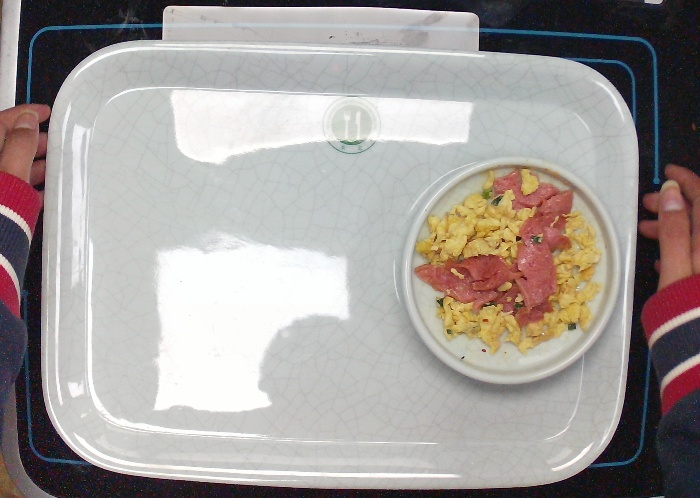JYsf-Xiao_Yuan_Pan: (395, 155, 622, 388)
